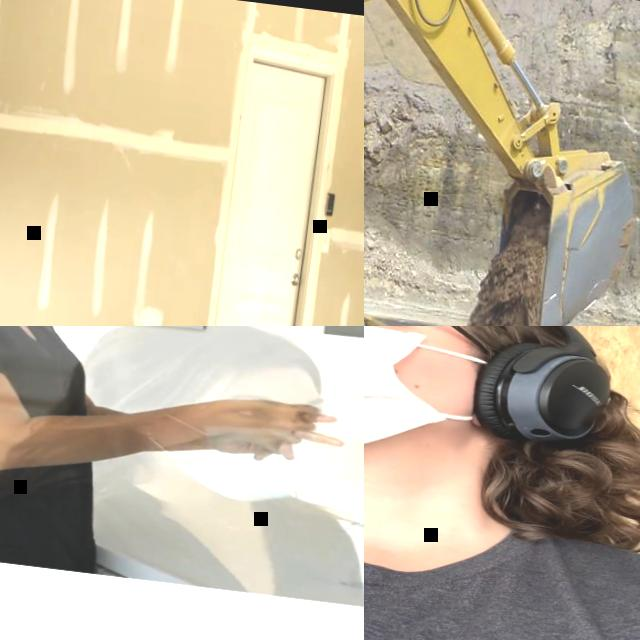Mask: (364, 326, 491, 469), (167, 419, 329, 514)
NO-Hardhat: (107, 326, 320, 393)
NO-Safety Vest: (364, 469, 640, 640), (35, 474, 364, 603), (0, 326, 121, 564)
Person: (0, 326, 364, 602), (364, 326, 640, 640), (0, 326, 130, 572)
vehicle: (364, 0, 640, 326)
